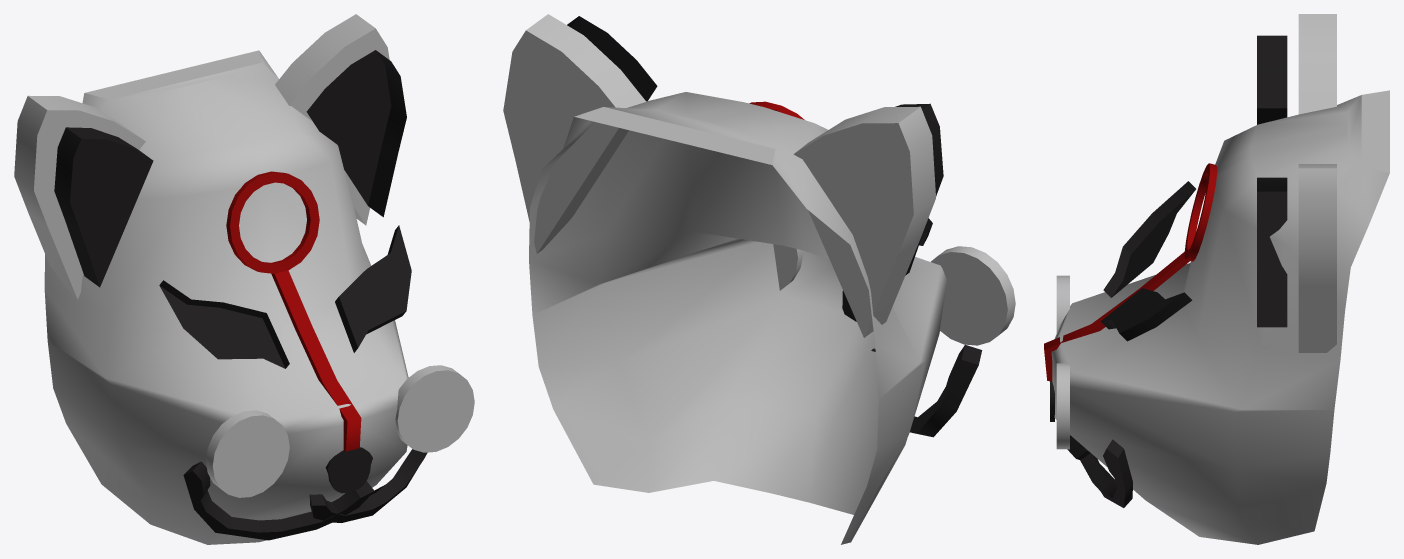
The model's file is Fox Child.fbx.
3 renders of one model, left to right at view 1: azimuth 30°, elevation 25°; view 2: azimuth 150°, elevation 25°; view 3: azimuth 270°, elevation 25°, orthographic. The views are drawn at different scales.
Visible parts, largest first — view 1: tiger_mask, polySurface31, polySurface30, polySurface29, pPipe2, polySurface26, cheeks2, cheeks, polySurface21, polySurface28, polySurface27, nnose1; view 2: tiger_mask, polySurface29, polySurface21, cheeks2, polySurface26, polySurface30, polySurface31, cheeks; view 3: tiger_mask, polySurface21, polySurface30, polySurface29, pPipe2, polySurface28, polySurface31, polySurface27, polySurface26, cheeks, cheeks2.
Part boxes in pixels (<box>): tiger_mask: <box>44,50,408,544</box>; polySurface31: <box>54,127,153,287</box>; polySurface30: <box>306,50,406,217</box>; polySurface29: <box>14,95,145,299</box>; pPipe2: <box>226,171,361,451</box>; polySurface26: <box>183,449,427,540</box>; cheeks2: <box>206,410,289,497</box>; cheeks: <box>395,365,474,452</box>; polySurface21: <box>275,14,389,225</box>; polySurface28: <box>159,280,289,368</box>; polySurface27: <box>335,225,411,352</box>; nnose1: <box>325,447,372,493</box>; tiger_mask: <box>529,92,947,544</box>; polySurface29: <box>793,106,935,337</box>; polySurface21: <box>503,14,646,253</box>; cheeks2: <box>931,246,1015,345</box>; polySurface26: <box>871,344,982,437</box>; polySurface30: <box>567,16,657,101</box>; polySurface31: <box>895,103,943,275</box>; cheeks: <box>773,244,803,290</box>; tiger_mask: <box>1051,90,1389,544</box>; polySurface21: <box>1298,164,1336,352</box>; polySurface30: <box>1257,177,1287,327</box>; polySurface29: <box>1298,14,1336,114</box>; pPipe2: <box>1044,163,1217,381</box>; polySurface28: <box>1103,181,1195,297</box>; polySurface31: <box>1257,35,1287,124</box>; polySurface27: <box>1100,288,1192,341</box>; polySurface26: <box>1067,435,1132,507</box>; cheeks: <box>1056,363,1069,449</box>; cheeks2: <box>1056,275,1069,332</box>.
Size of the model in its own units: 2.61 by 2.97 by 2.22.
